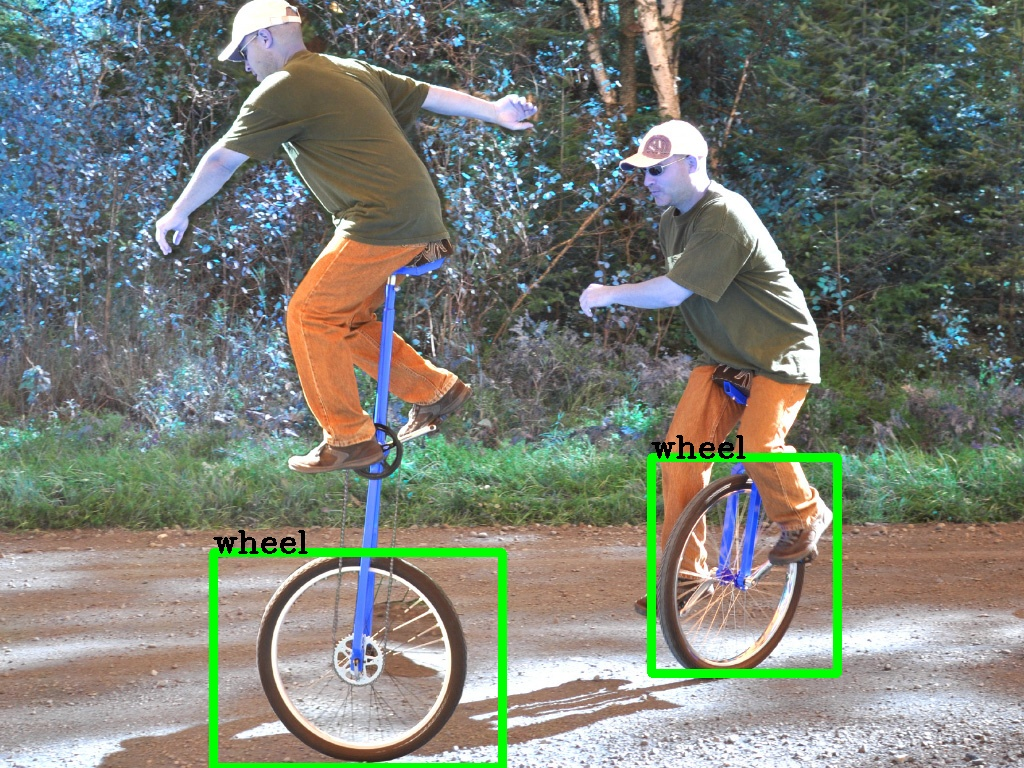wheel: (213, 552, 502, 767), (651, 457, 837, 673)
